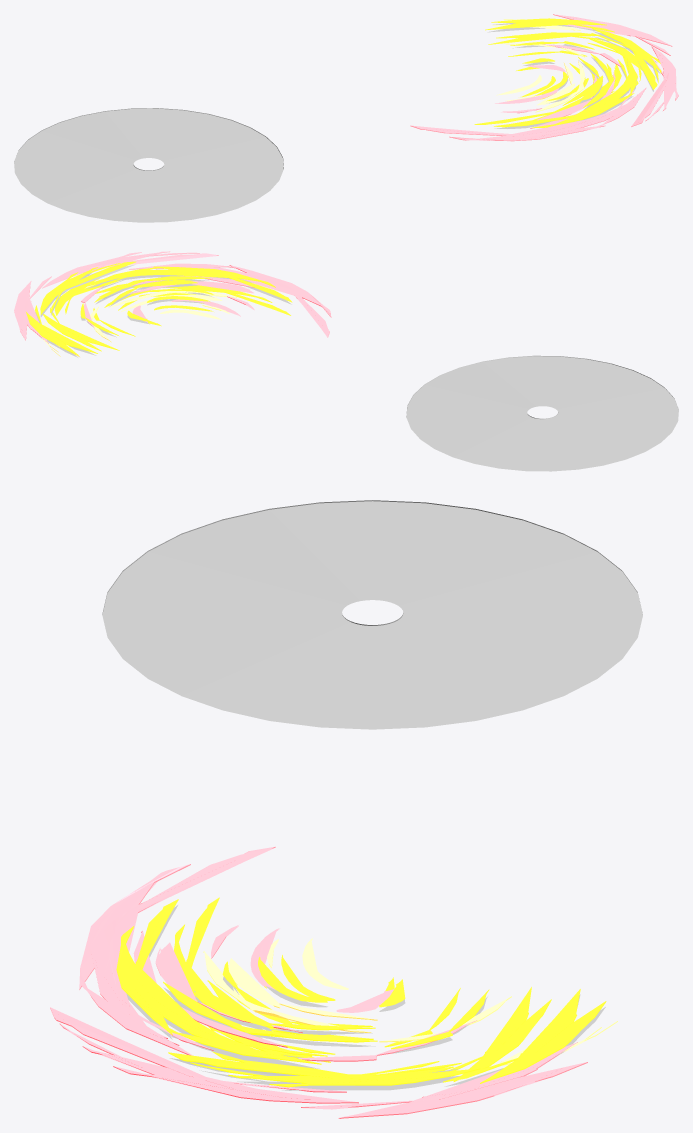
Rendered from Projektil_für_Elektro.glb.
3 renders of one model, top to bottom at view 1: azimuth 30°, elevation 25°; view 2: azimuth 150°, elevation 25°; view 3: azimuth 270°, elevation 25°, orthographic. The views are drawn at different scales.
Visible parts, largest first — view 1: Circle.001, Circle.002, Circle, Circle.005, Circle.003, Circle.004; view 2: Circle.001, Circle.002, Circle, Circle.005, Circle.003, Circle.004; view 3: Circle.001, Circle.002, Circle, Circle.005, Circle.003, Circle.004.
Boxes of the visible parts, x1,y1,x2,y2 form: Circle.001: (14,108,283,222); Circle.002: (410,14,678,141); Circle: (485,18,661,127); Circle.005: (474,32,642,124); Circle.003: (487,23,660,128); Circle.004: (492,19,584,112); Circle.001: (406,355,678,471); Circle.002: (14,251,331,343); Circle: (26,261,292,355); Circle.005: (43,278,290,351); Circle.003: (35,264,291,357); Circle.004: (42,291,237,356); Circle.001: (102,500,642,729); Circle.002: (50,846,587,1118); Circle: (116,899,606,1087); Circle.005: (174,897,551,1081); Circle.003: (126,905,605,1090); Circle.004: (203,938,617,1065).
Size of the model in its own units: 11.87 by 0.0948 by 4.82.
